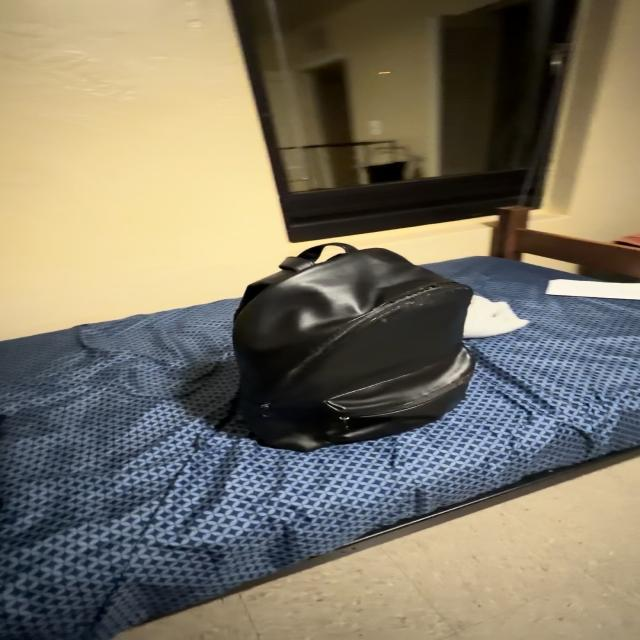backpack: (233, 243, 473, 451)
